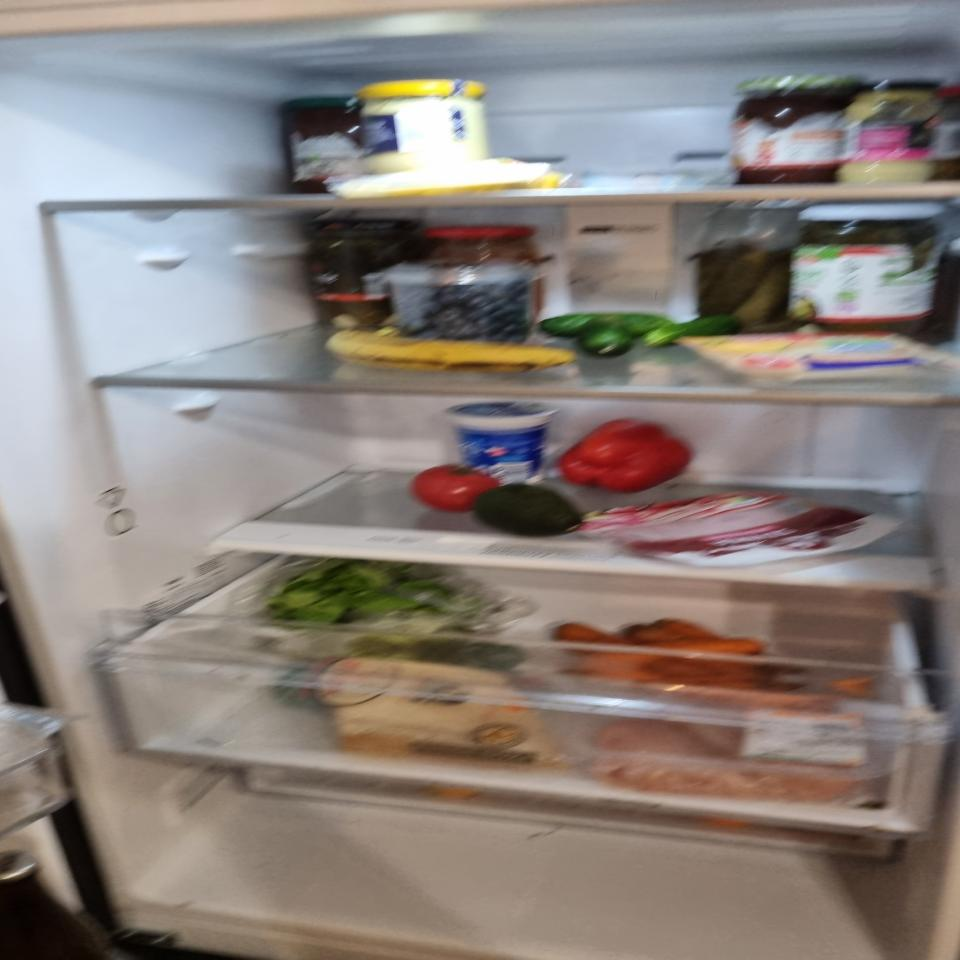Aguacate: (472, 484, 583, 537)
Carne pollo: (586, 706, 868, 802)
Lechuga/Endivia: (264, 557, 529, 670)
Pepino: (538, 314, 744, 359)
Plátano: (324, 326, 578, 374)
Queso: (320, 657, 574, 771), (674, 331, 960, 388), (334, 158, 561, 200)
Tomate: (409, 464, 500, 513)
Yogur: (445, 400, 561, 486)
Zanahoria: (554, 617, 807, 692)
